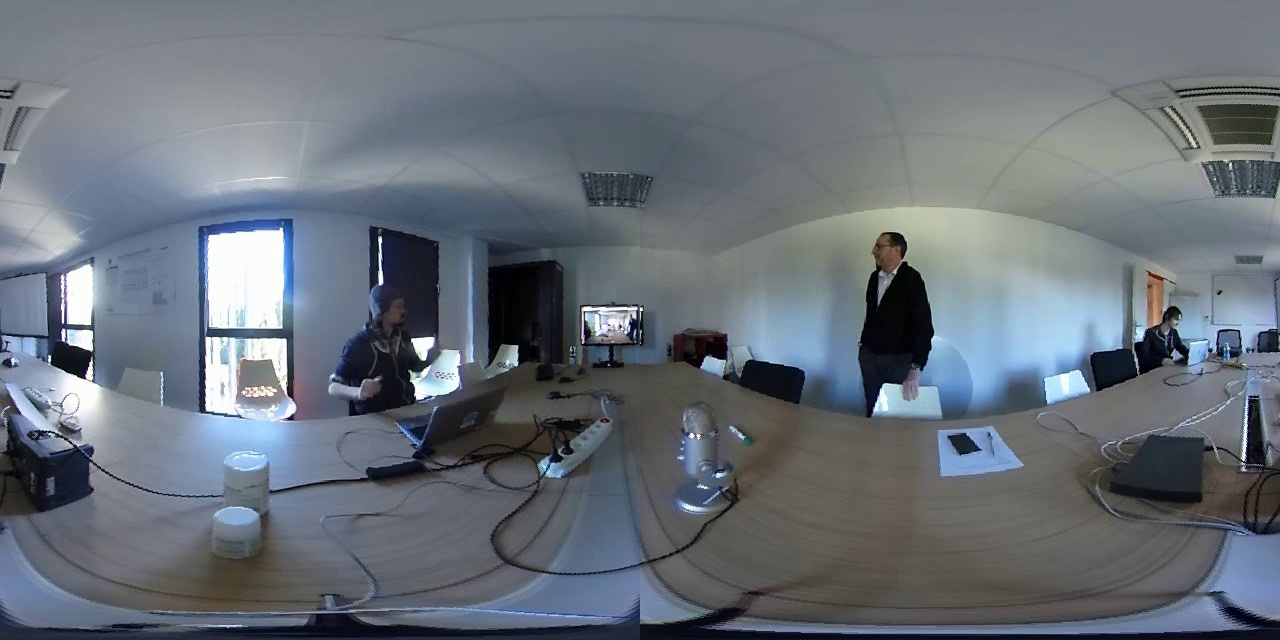person: (325, 282, 440, 404), (855, 231, 943, 389), (1138, 295, 1199, 367)
